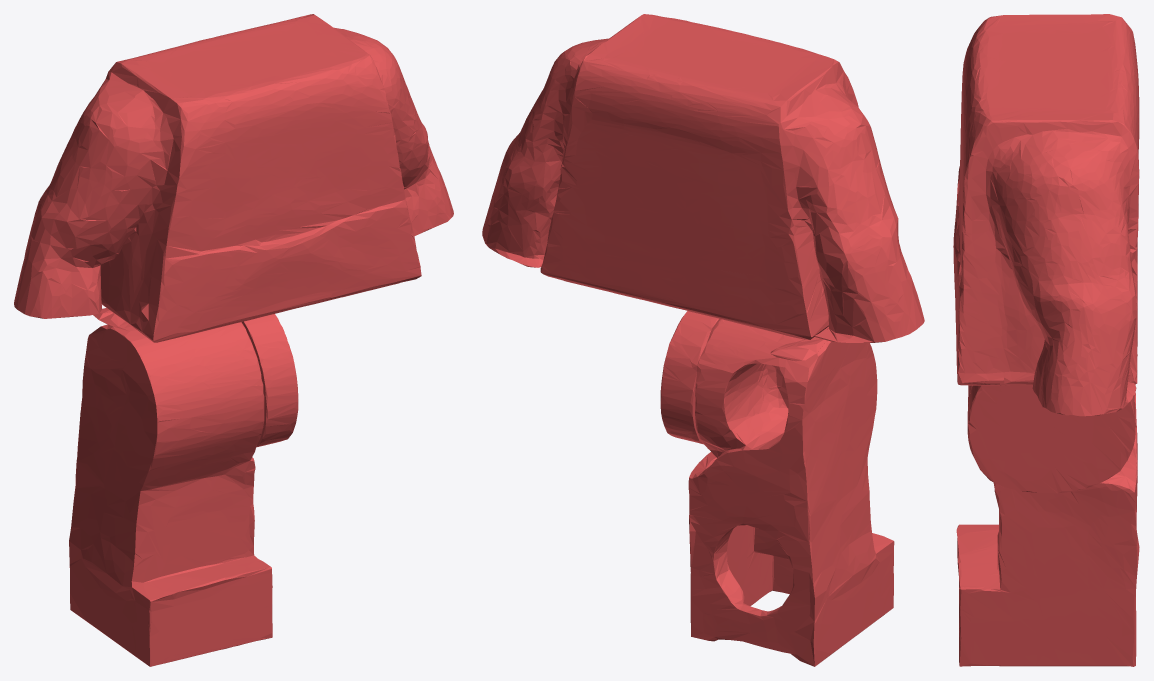
The model's file is figurine-2.glb.
The picture shows the model from 3 angles, left to right: view 1: azimuth 30°, elevation 25°; view 2: azimuth 150°, elevation 25°; view 3: azimuth 270°, elevation 25°; orthographic projection. The views are drawn at different scales.
Visible parts, largest first — view 1: part_02; view 2: part_02; view 3: part_02.
Part boxes in pixels (box(x1,y1,x2,y2)): part_02: box(14, 14, 453, 666); part_02: box(482, 14, 924, 666); part_02: box(953, 14, 1139, 666).
Bounding box in the file's own units: 0.533 × 0.648 × 0.1799.
